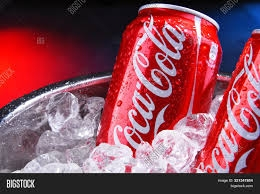metal: (97, 1, 228, 148), (196, 23, 260, 175)
